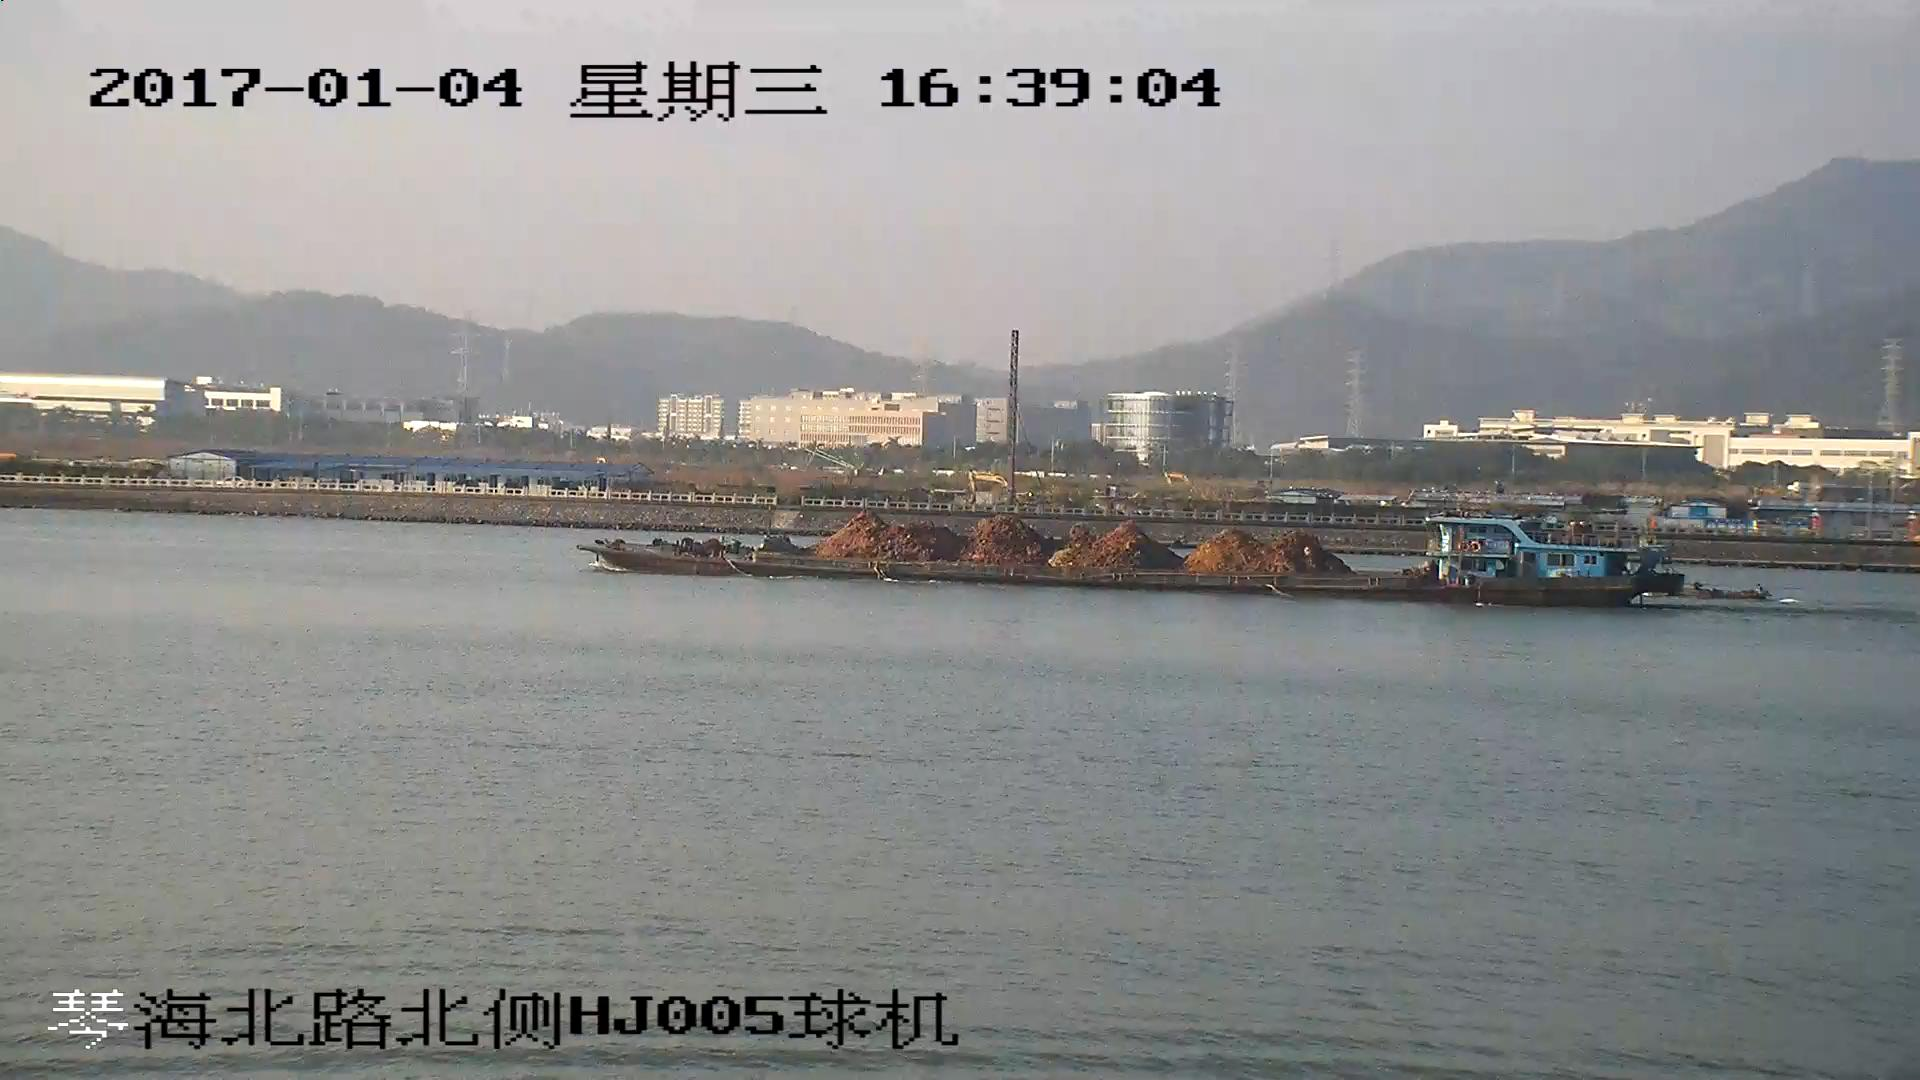ore carrier: (577, 509, 1685, 608)
